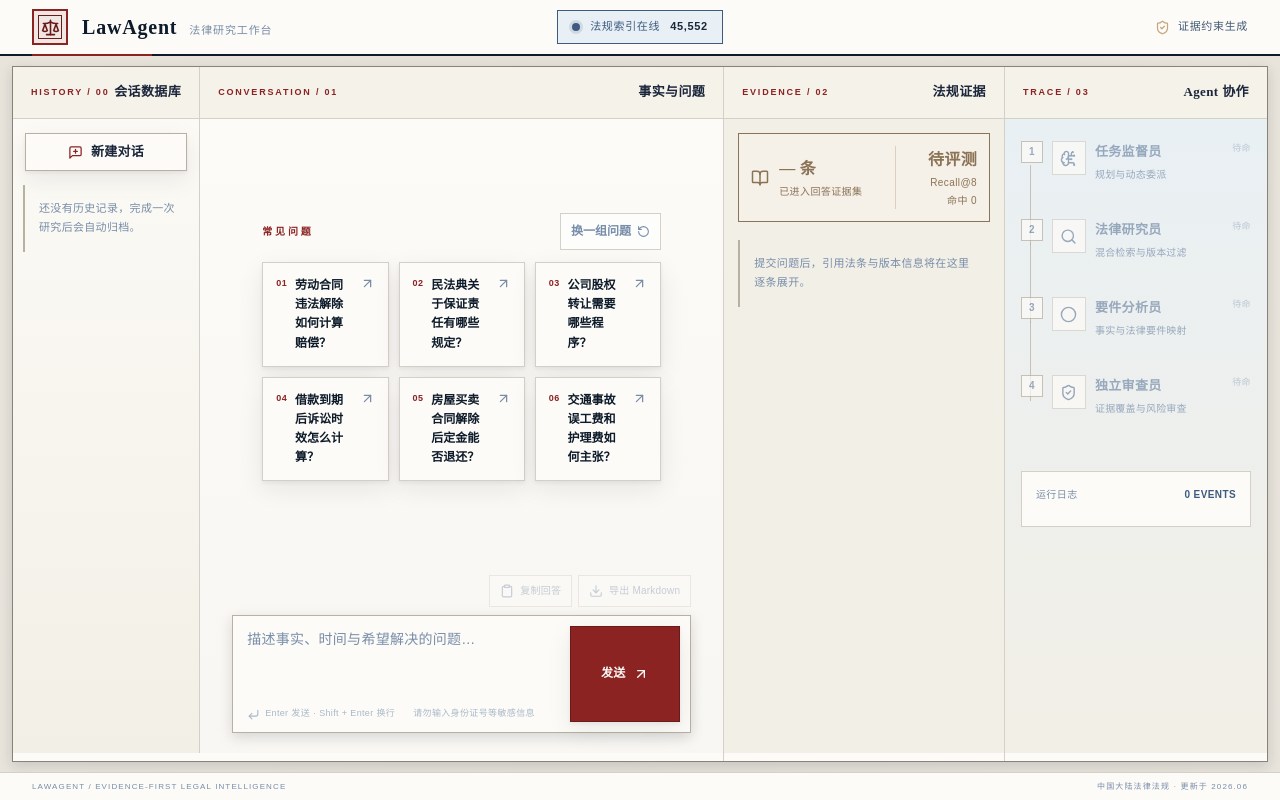
Test: LegalWorkspace › renders the completed answer as structured legal sections
This screenshot has width=1280, height=800.
Type "公司违法辞退我，经济补偿如何计算？" into the text box with placeholder "描述事实、时间与希望解决的问题…" at (404,663), box x1=247 y1=628 x2=560 y2=697
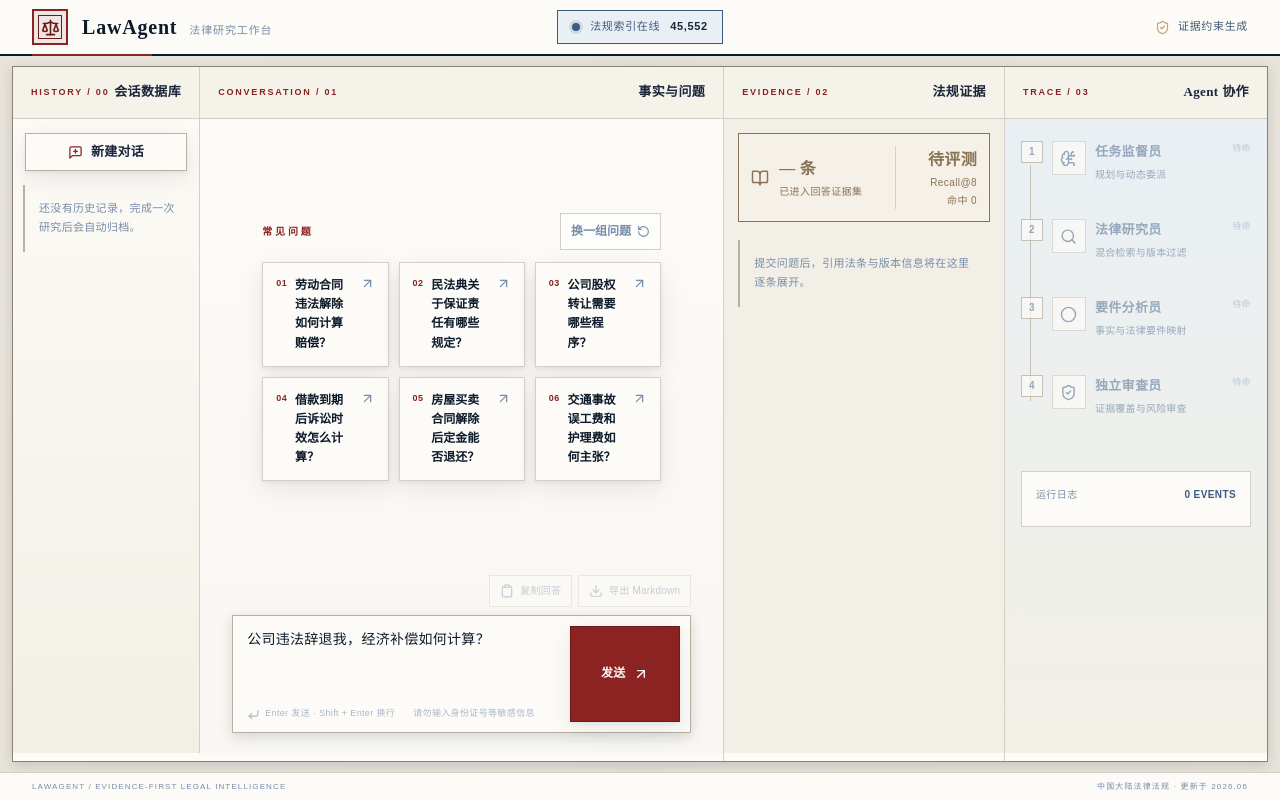
Click the button "发送" at (625,674), box x1=570 y1=626 x2=680 y2=722
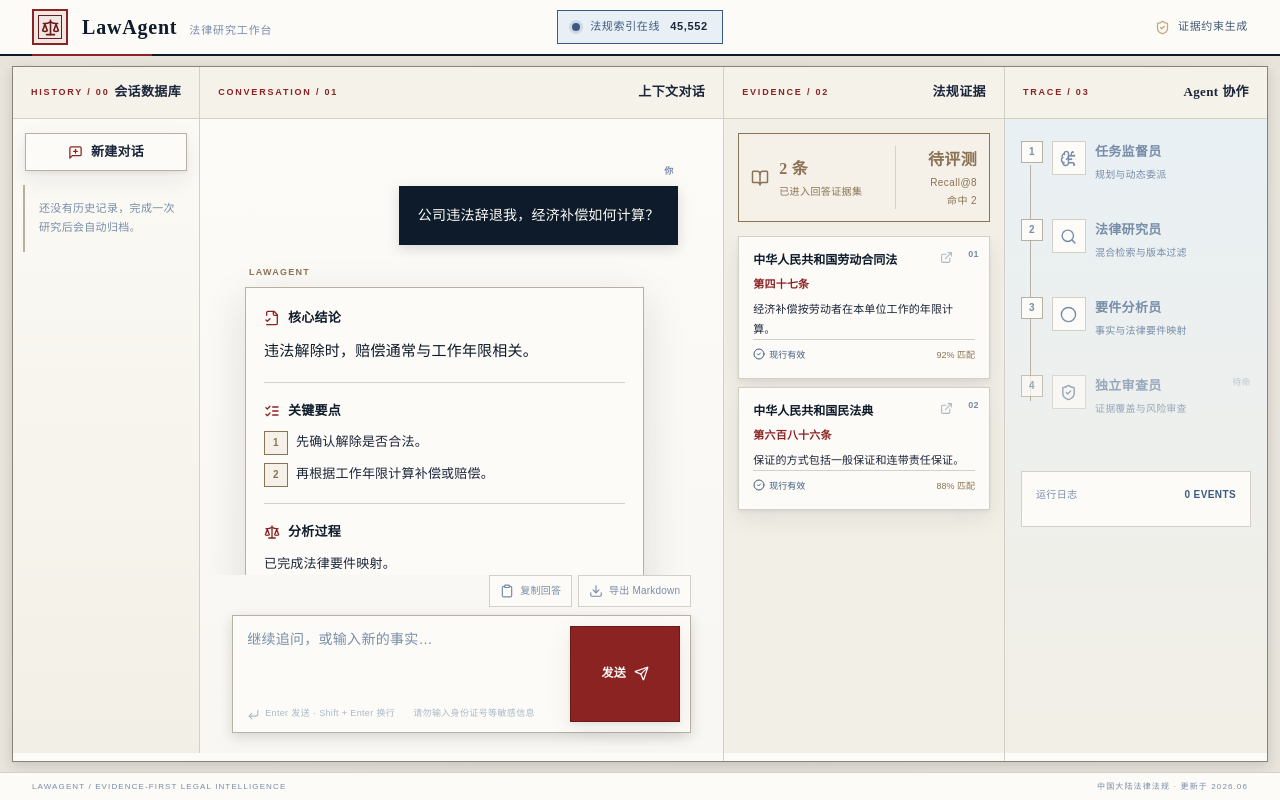
Check: the heading "核心结论" is shown, box x1=264 y1=310 x2=341 y2=326
Check: the heading "关键要点" is shown, box x1=264 y1=403 x2=341 y2=419
Check: the heading "分析过程" is shown, box x1=264 y1=524 x2=341 y2=540
